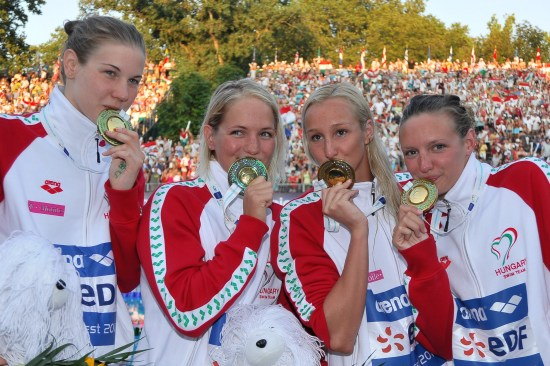face: (74, 47, 145, 120), (404, 117, 465, 193), (215, 103, 280, 174), (310, 104, 367, 174)
